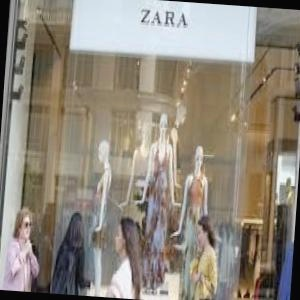zara: (121, 1, 259, 4)
